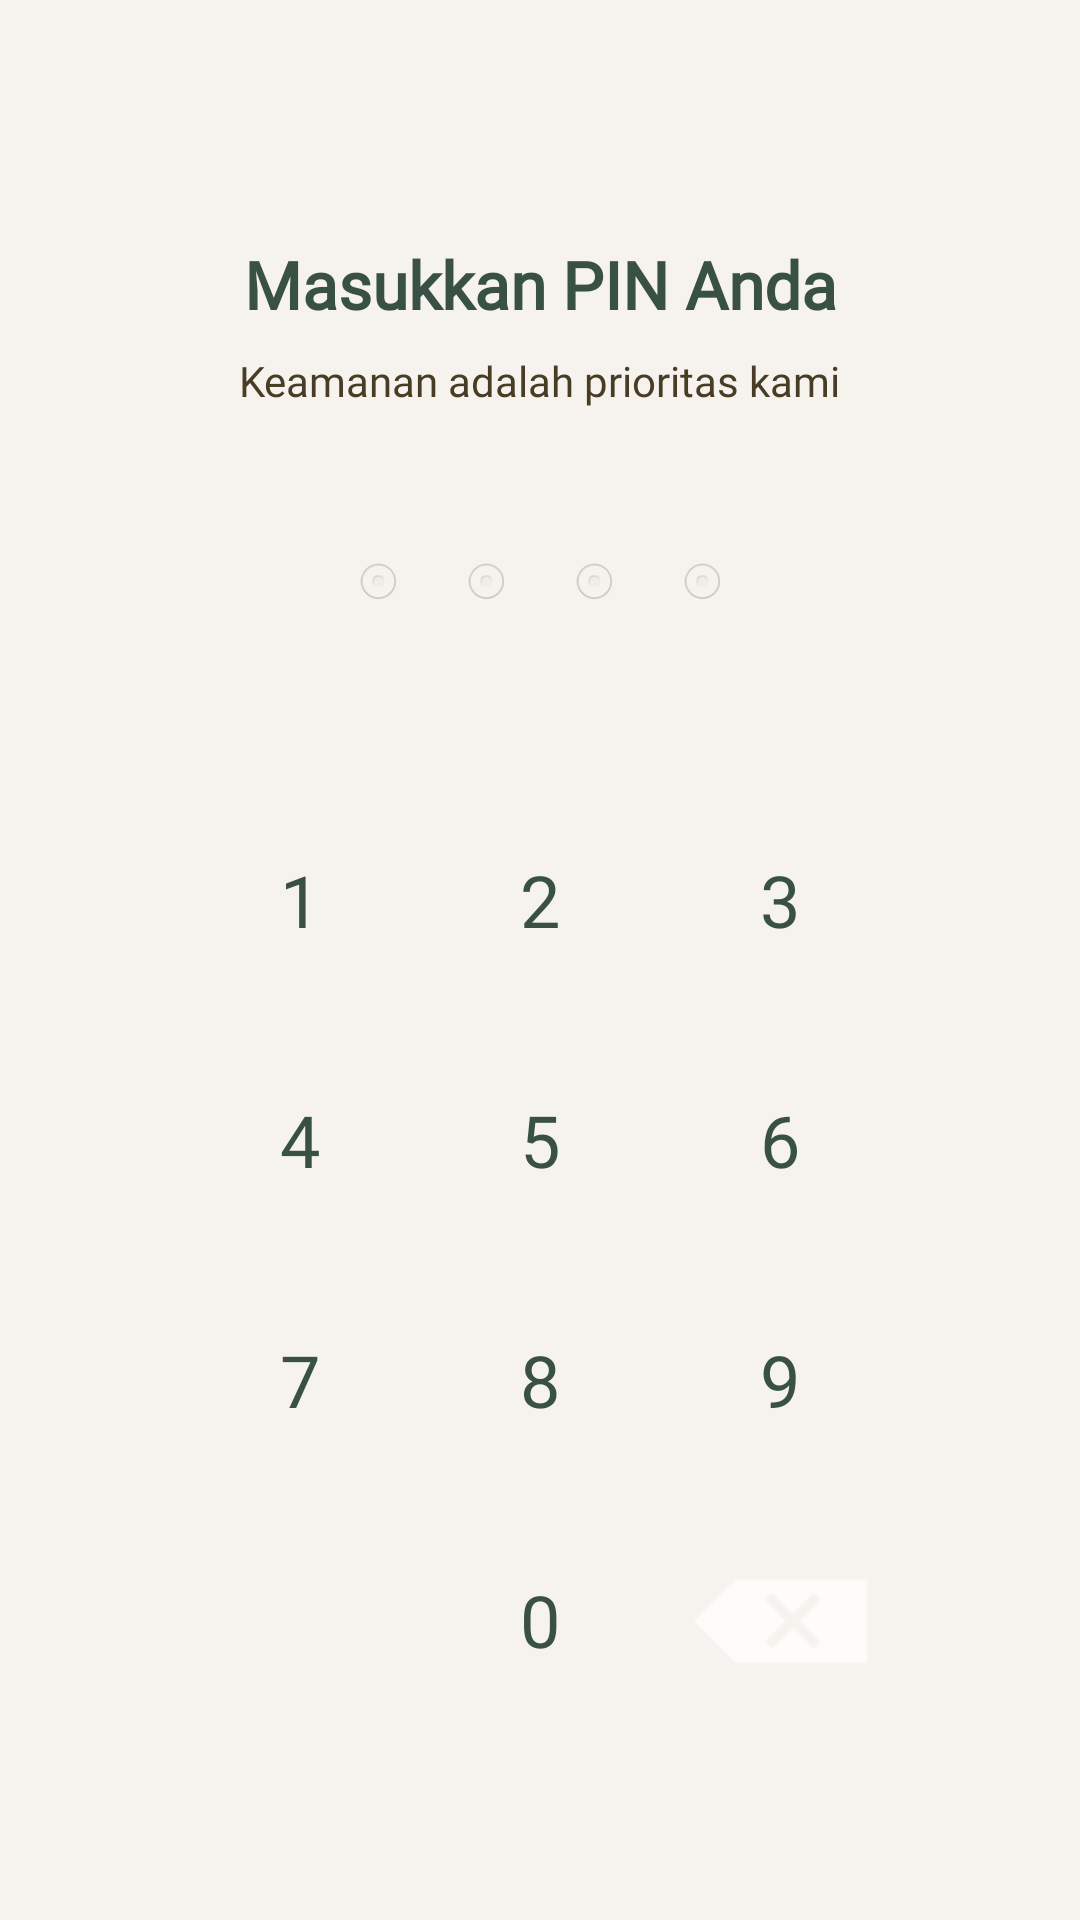

Locate icon controls on the screen. Image size 1080px×1920px, boxes as (x1, y1, x2, y2).
radio: (361, 564, 396, 599), (469, 564, 504, 599), (577, 564, 612, 599), (685, 564, 720, 599)
